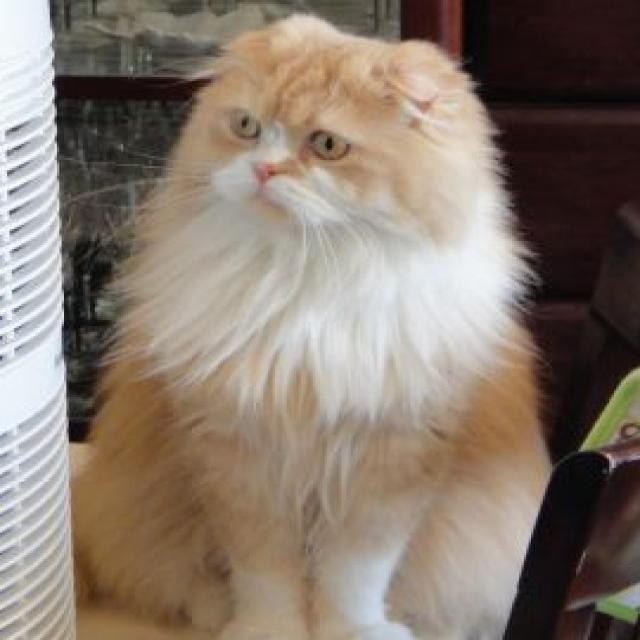Scottish Fold: (62, 8, 557, 640)
